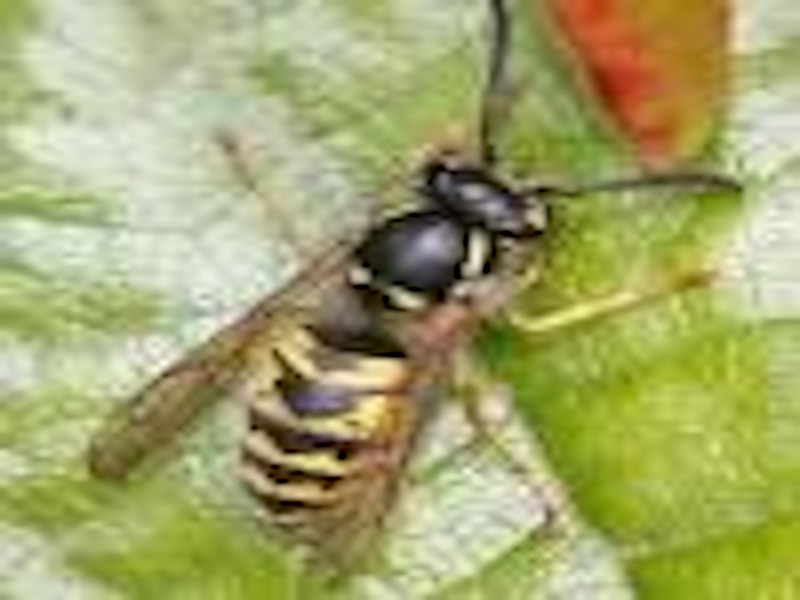chax: (56, 1, 752, 581)
